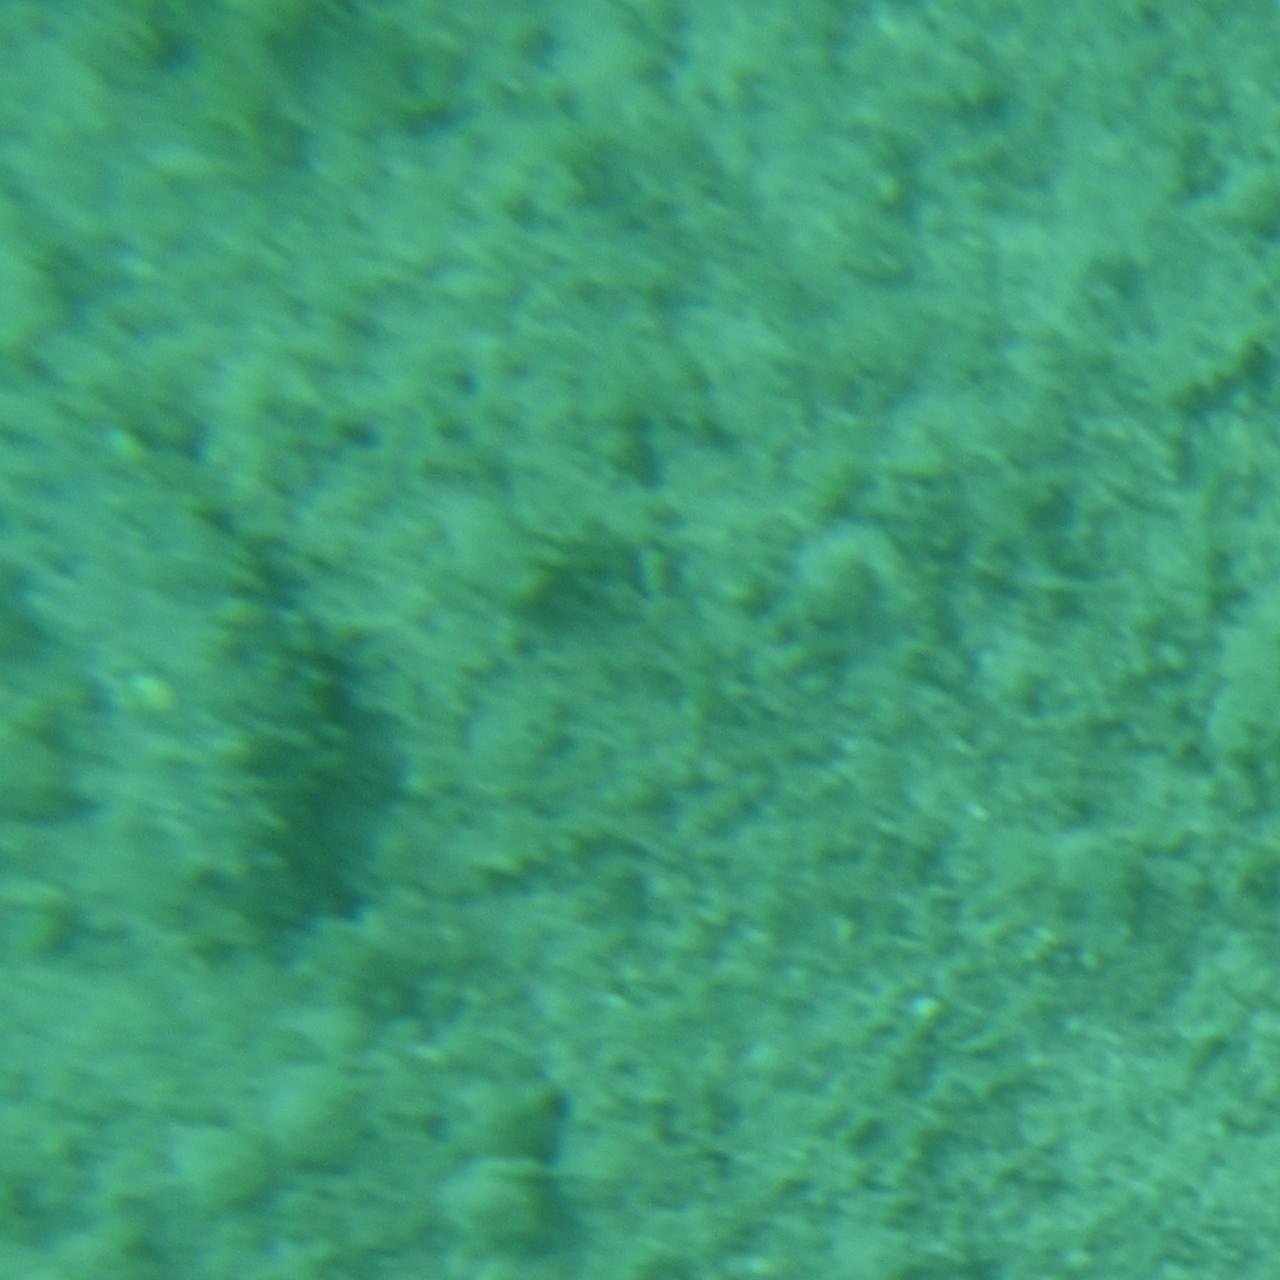Holothuria tubulosa: (0, 322, 396, 958)
